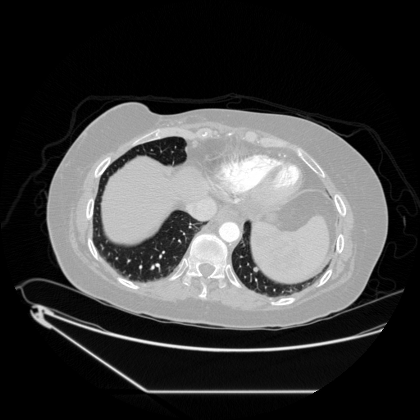nodule: (253, 267, 257, 271)
